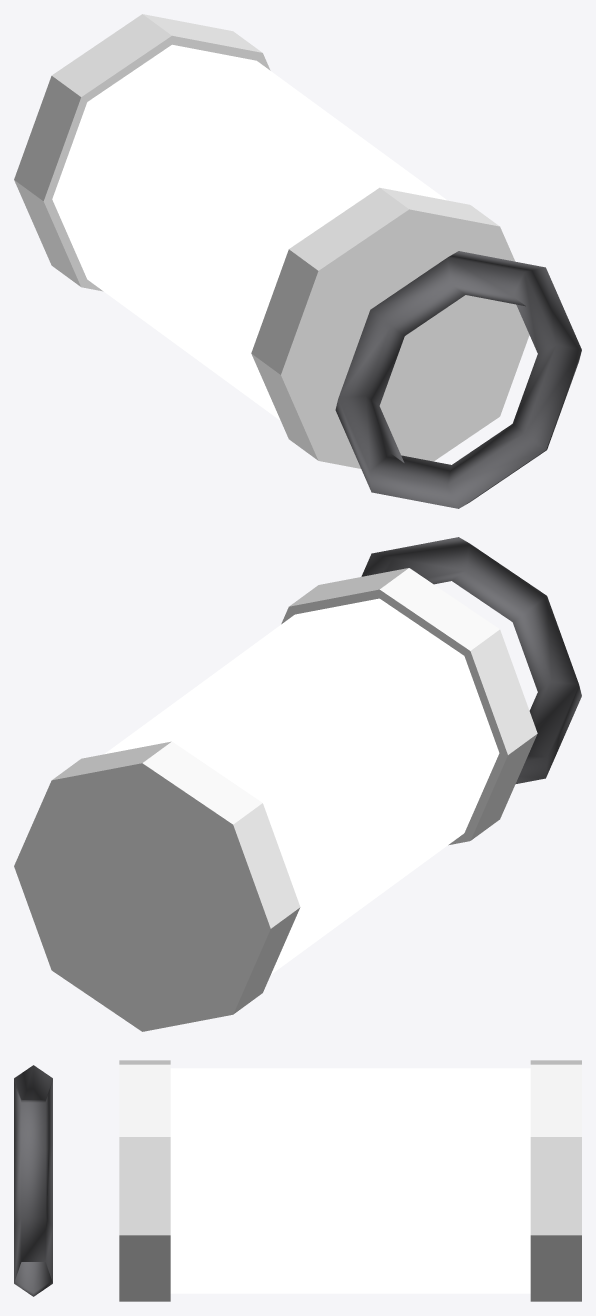
The model's file is SM_NPC_Prop_Lantern.glb.
3 views of the same model, one above another, from view 1: azimuth 30°, elevation 25°; view 2: azimuth 150°, elevation 25°; view 3: azimuth 270°, elevation 25° (orthographic). The views are drawn at different scales.
Visible parts, largest first — view 1: asset_npc_prop_lantern; view 2: asset_npc_prop_lantern; view 3: asset_npc_prop_lantern.
Boxes of the visible parts, x1,y1,x2,y2 form: asset_npc_prop_lantern: (14, 14, 581, 508); asset_npc_prop_lantern: (14, 537, 581, 1031); asset_npc_prop_lantern: (14, 1060, 581, 1301).
Bounding box in the file's own units: 0.15 × 0.15 × 0.3314.
2 materials, 2 textured.
